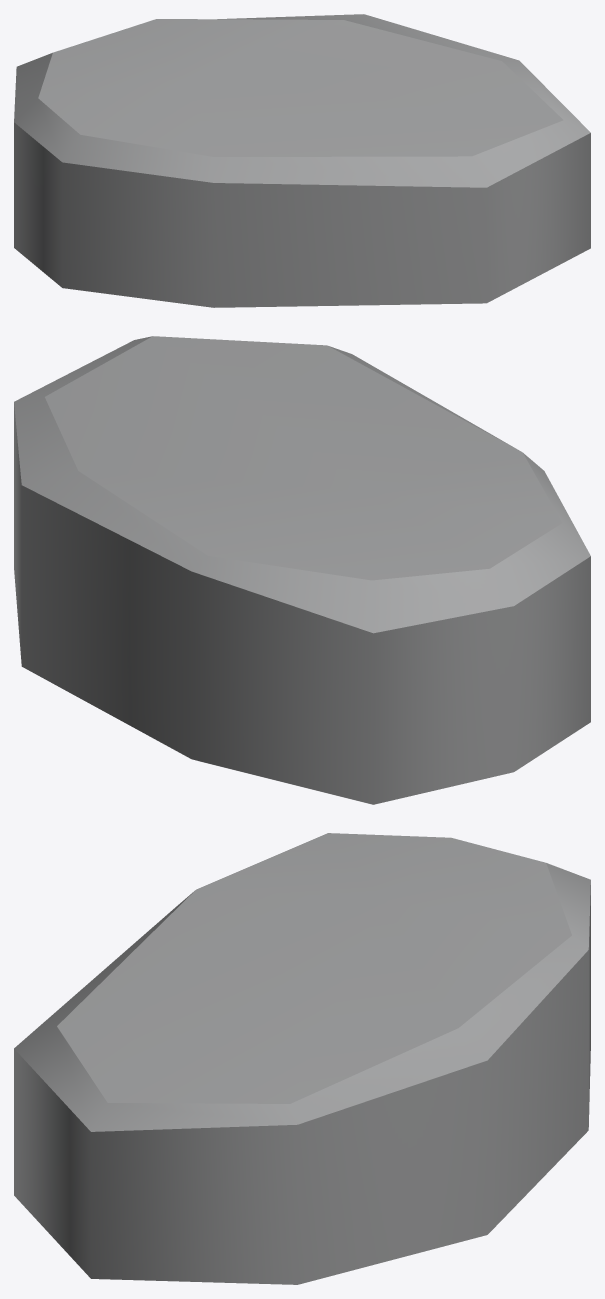
The model's file is Stone_H.fbx.
3 views of the same model, one above another, from view 1: azimuth 30°, elevation 25°; view 2: azimuth 150°, elevation 25°; view 3: azimuth 270°, elevation 25° (orthographic). The views are drawn at different scales.
Parts seen in each view (by area): view 1: Stone_H; view 2: Stone_H; view 3: Stone_H.
Boxes of the visible parts, box(x1,y1,x2,y2) form: Stone_H: box(14, 14, 590, 307); Stone_H: box(14, 336, 590, 804); Stone_H: box(14, 833, 590, 1284).
Size of the model in its own units: 143 by 47.96 by 126.
